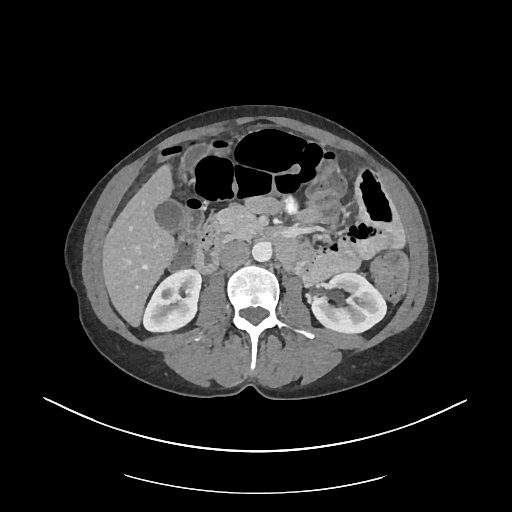Lesion: (156, 283, 178, 304)
